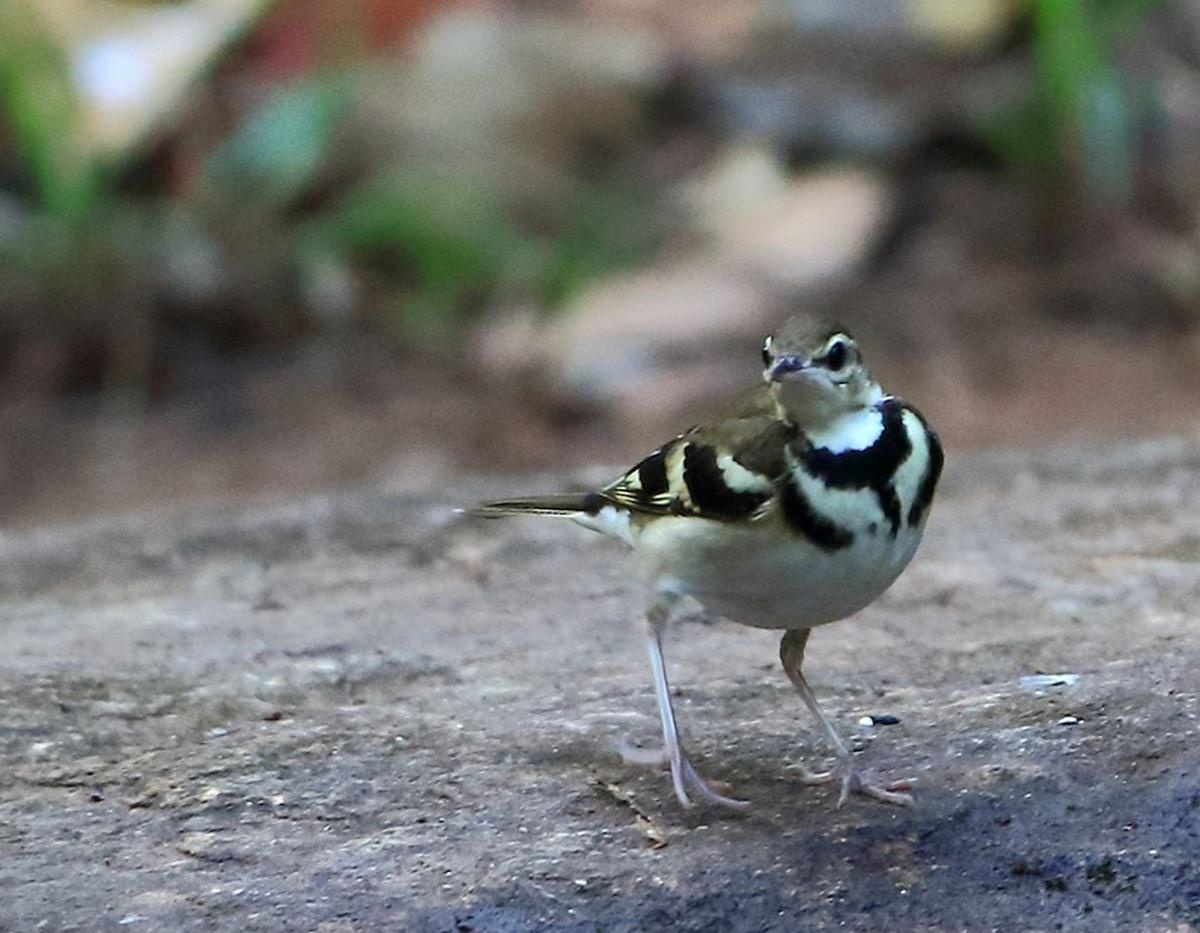wagtail: (482, 299, 956, 726)
